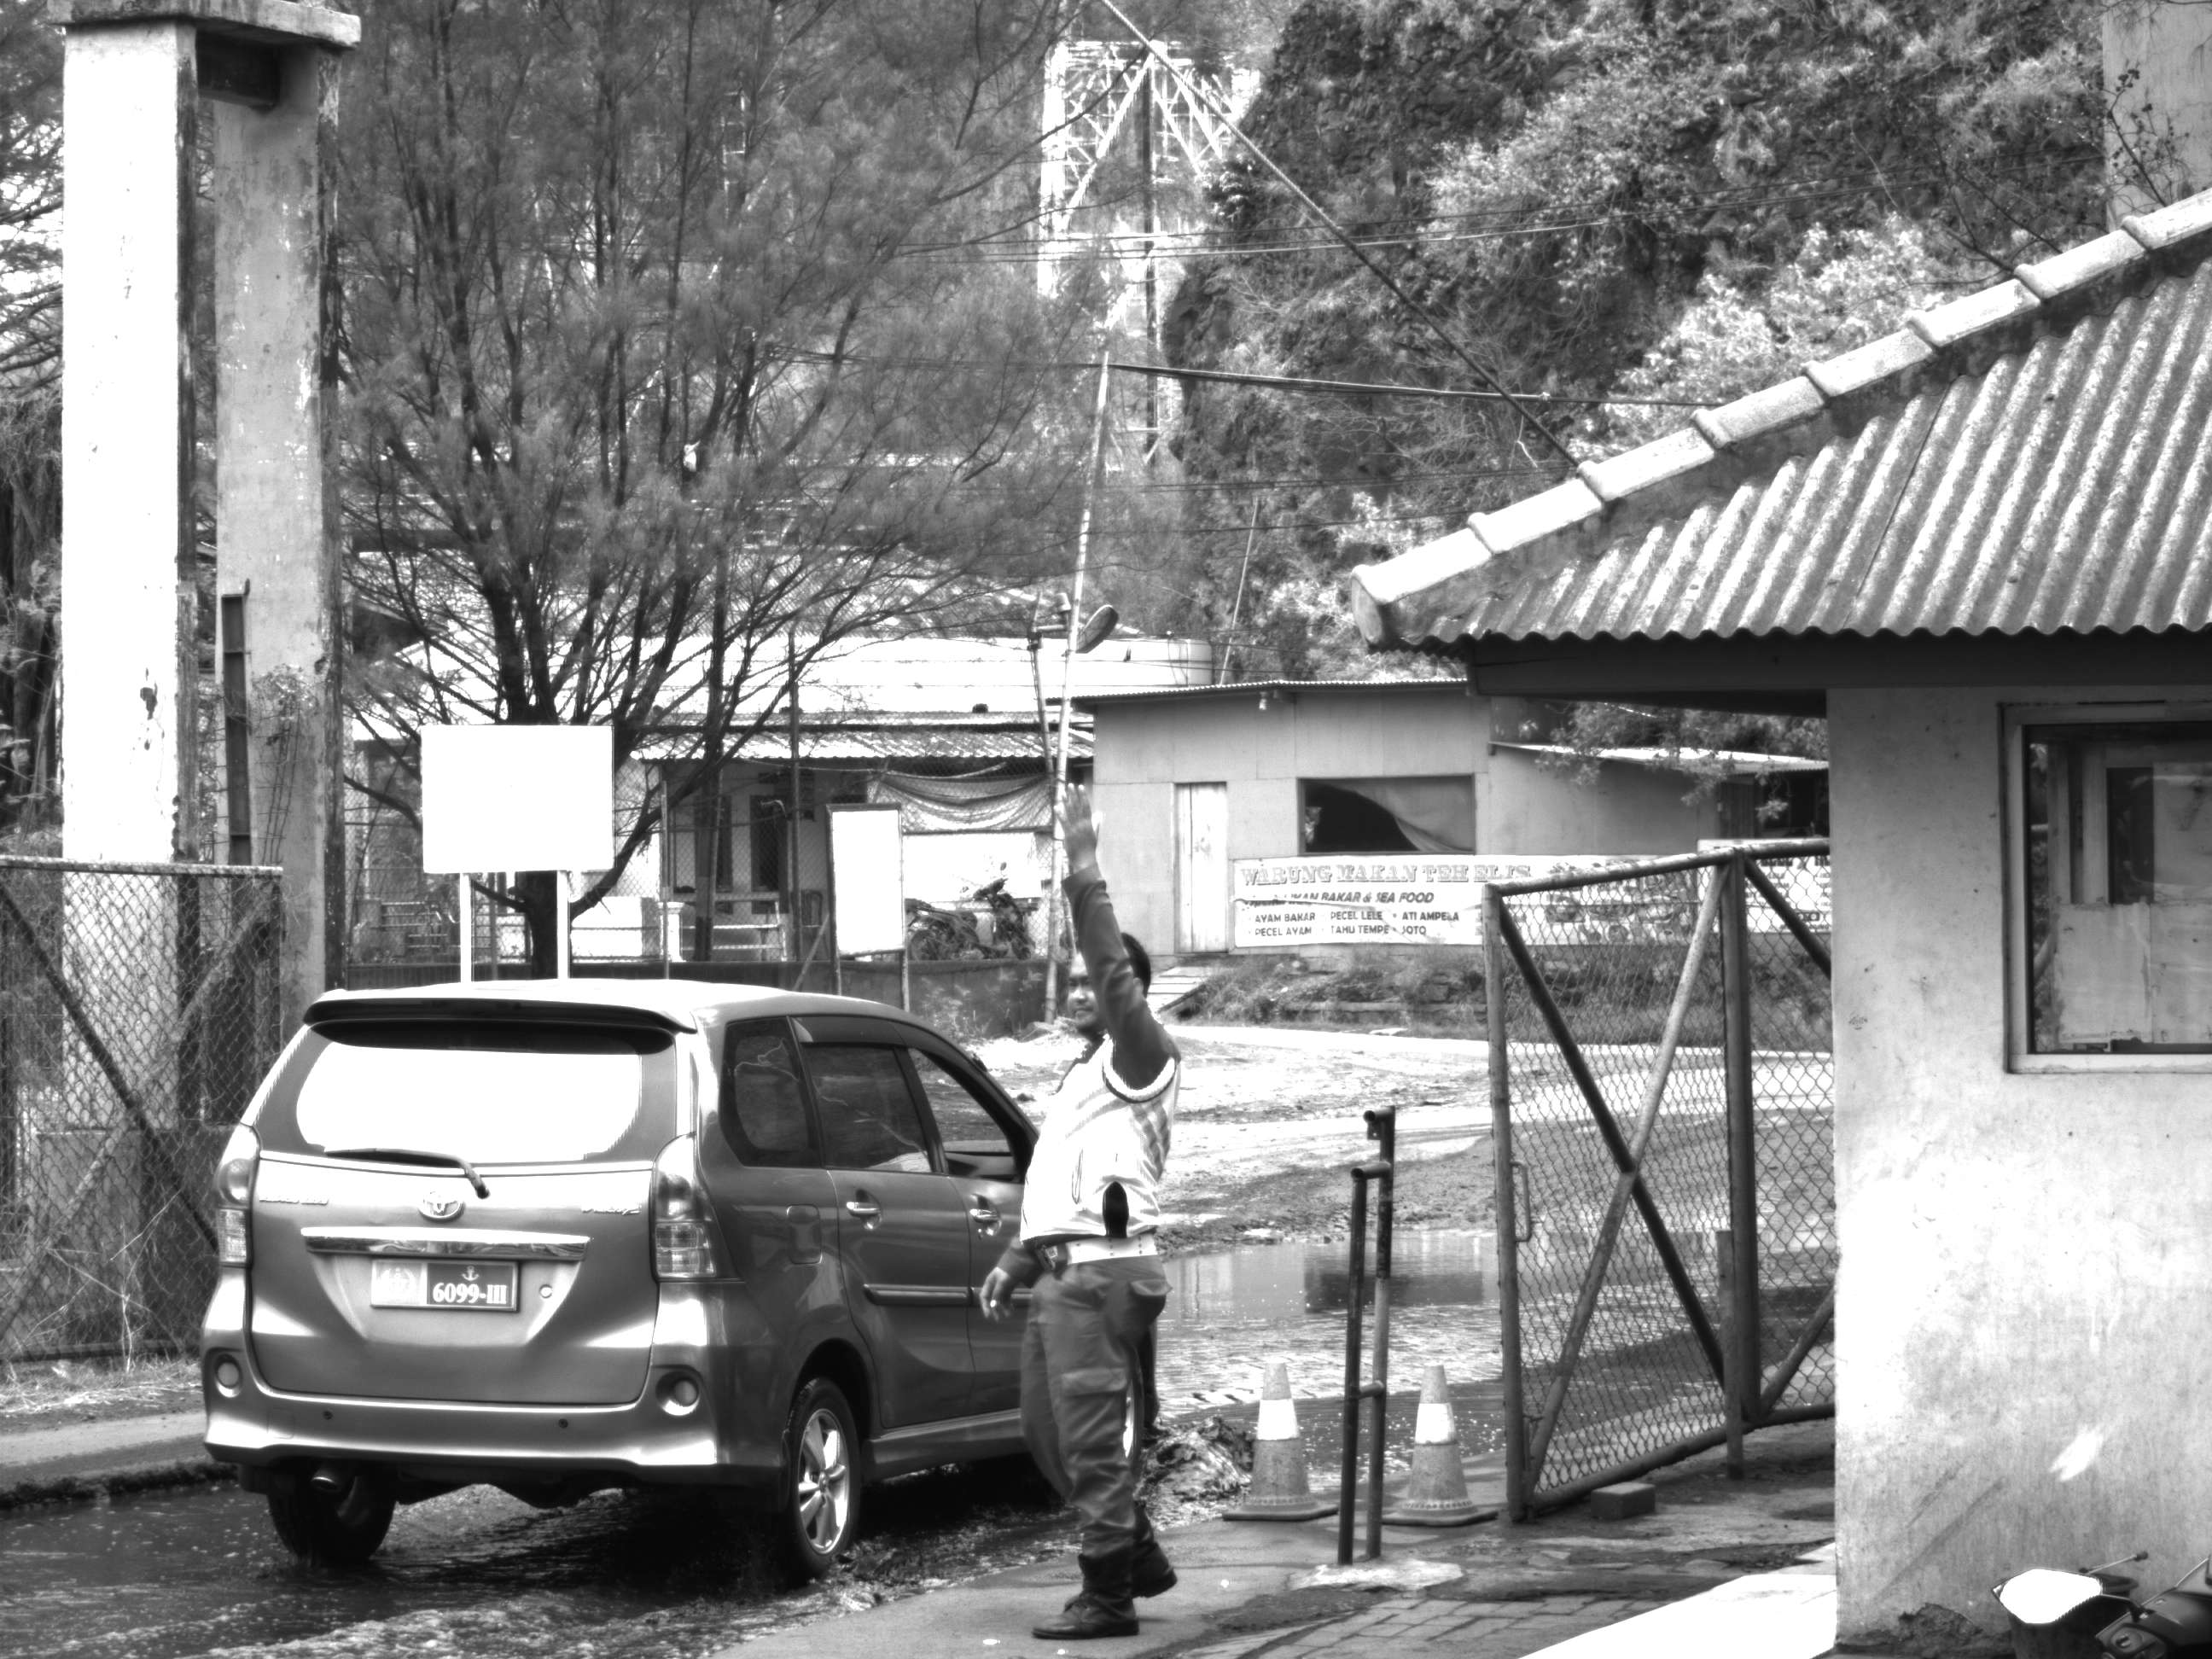day_small_rear: (192, 956, 875, 1579)
plate: (368, 1252, 526, 1326)
